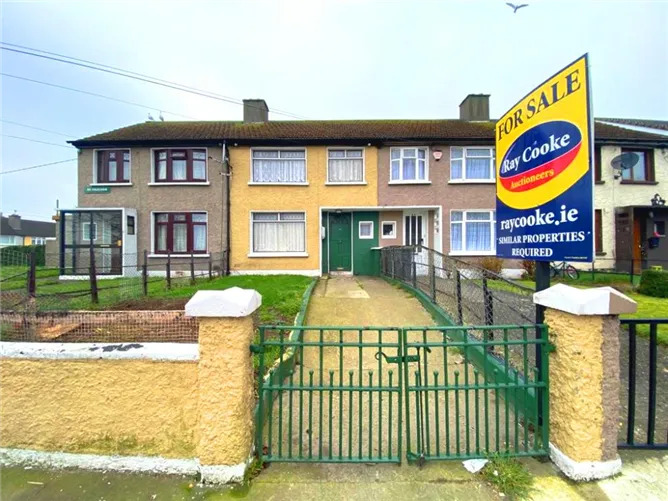property sign: (473, 51, 616, 276)
